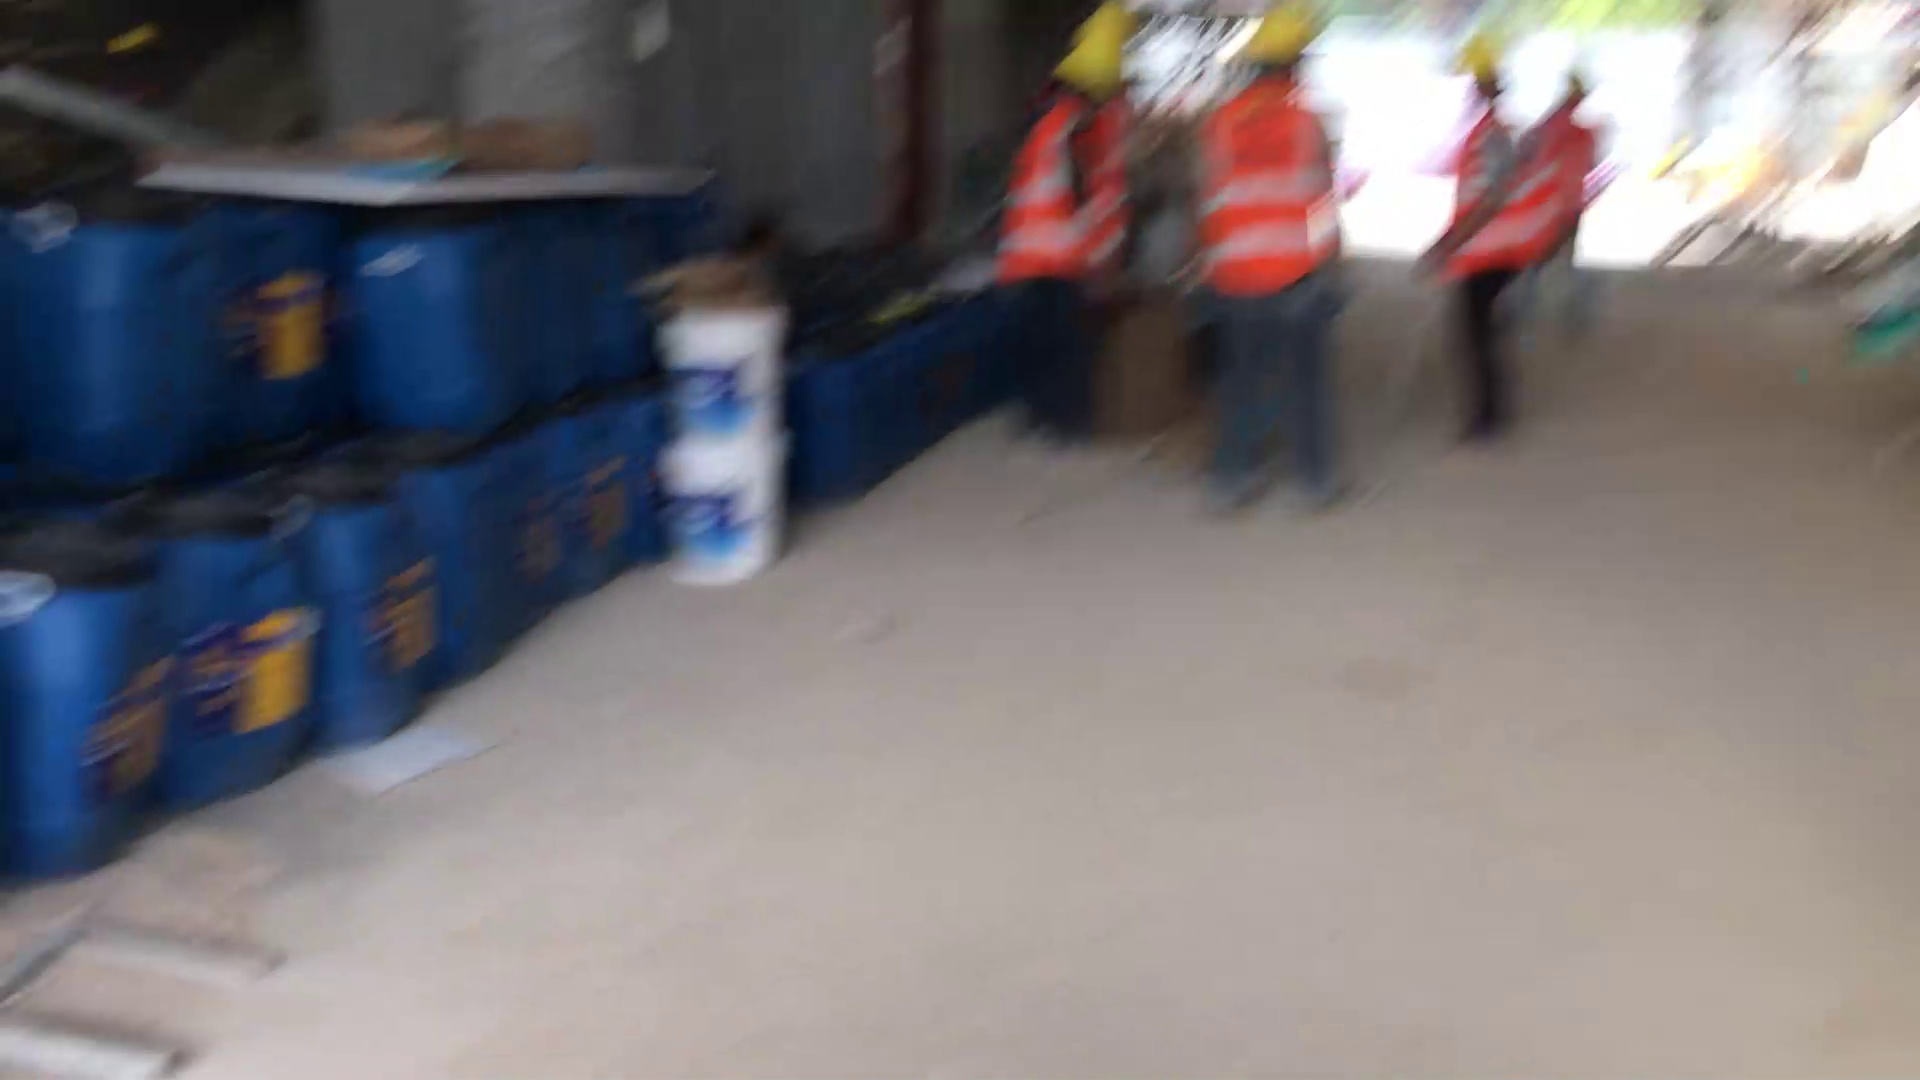helmet: (1223, 20, 1325, 74), (1043, 32, 1126, 94)
person: (1191, 24, 1369, 527), (1401, 43, 1558, 469), (992, 34, 1125, 452)
vest: (1206, 74, 1349, 305), (1001, 94, 1122, 271)
